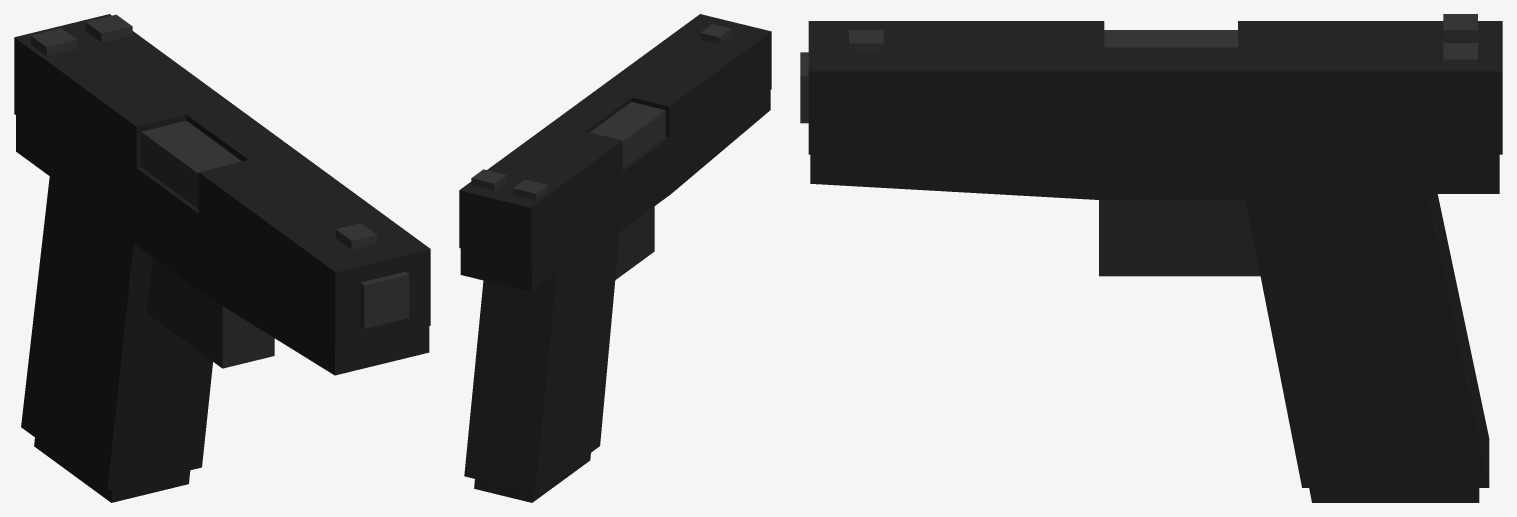
The model's file is Pistol17.FBX.
The picture shows the model from 3 angles, left to right: view 1: azimuth 30°, elevation 25°; view 2: azimuth 150°, elevation 25°; view 3: azimuth 270°, elevation 25°; orthographic projection. The views are drawn at different scales.
Parts seen in each view (by area): view 1: Pistol17, Pistol17Slide, Pistol17Mag; view 2: Pistol17, Pistol17Slide, Pistol17Mag; view 3: Pistol17, Pistol17Slide, Pistol17Mag.
Boxes of the visible parts, bbox=[...] form: Pistol17: bbox=[16, 115, 429, 490]; Pistol17Slide: bbox=[14, 14, 430, 348]; Pistol17Mag: bbox=[34, 437, 190, 502]; Pistol17: bbox=[460, 90, 770, 493]; Pistol17Slide: bbox=[459, 14, 771, 265]; Pistol17Mag: bbox=[474, 453, 590, 502]; Pistol17: bbox=[800, 52, 1499, 487]; Pistol17Slide: bbox=[808, 14, 1502, 154]; Pistol17Mag: bbox=[1309, 488, 1479, 502].
Bounding box in the file's own units: 7.6 × 44.83 × 31.4.
